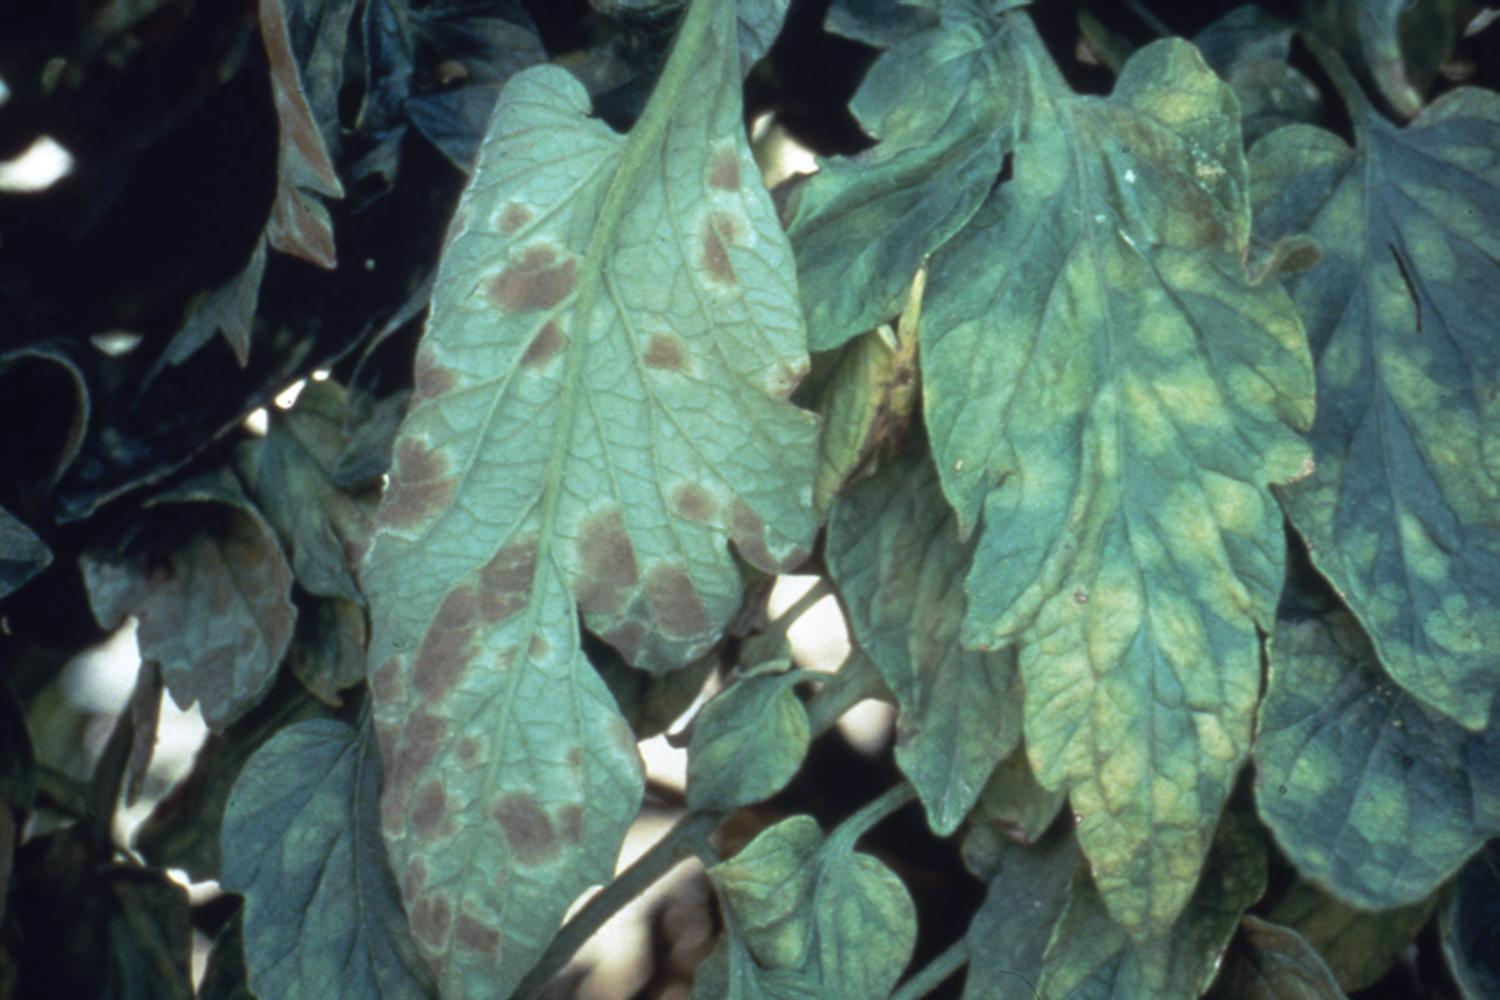Tomato mold leaf: (342, 28, 823, 1000), (931, 42, 1333, 959), (1225, 112, 1499, 789), (684, 812, 927, 1000)
